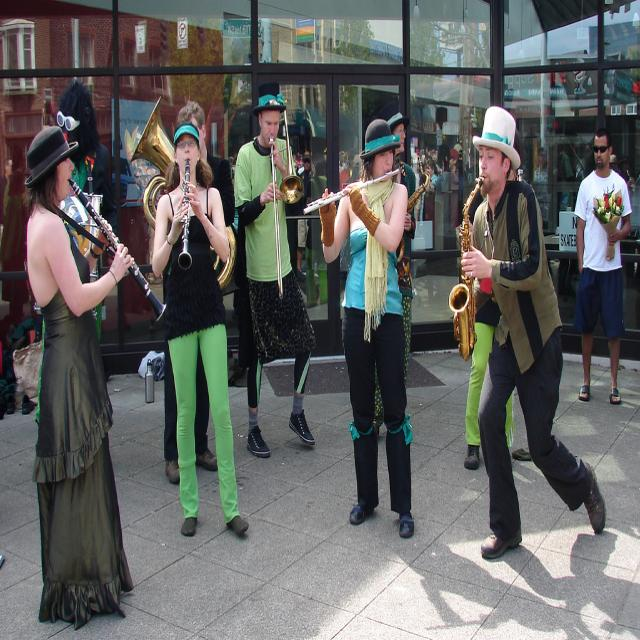clarinet: (68, 178, 168, 324), (178, 158, 200, 274)
